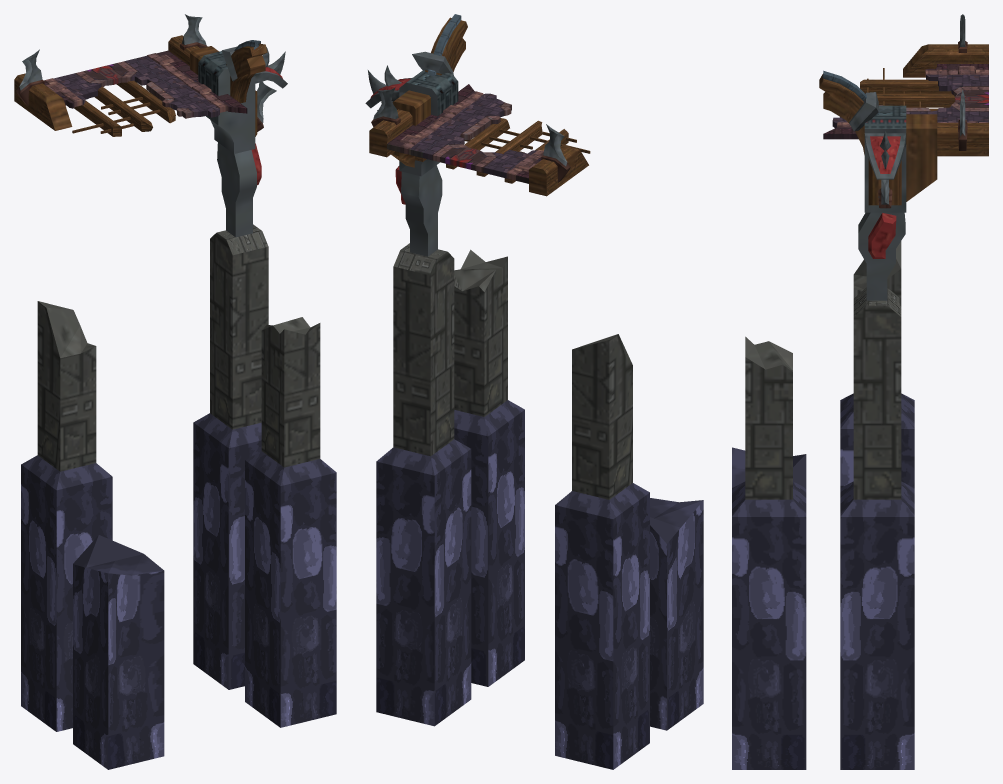
File: Bridge_Cap_16_B.FBX
3 views of the same model, side by side, from view 1: azimuth 30°, elevation 25°; view 2: azimuth 150°, elevation 25°; view 3: azimuth 270°, elevation 25° (orthographic). The views are drawn at different scales.
Visible parts, largest first — view 1: Bridge_Cap_16_B; view 2: Bridge_Cap_16_B; view 3: Bridge_Cap_16_B.
Part boxes in pixels (box(x1,y1,x2,y2)): Bridge_Cap_16_B: box(14, 14, 336, 769); Bridge_Cap_16_B: box(365, 14, 703, 769); Bridge_Cap_16_B: box(732, 14, 988, 769).
Bounding box in the file's own units: 1464 × 3623 × 1241.
Materials: 1 (1 with a texture image).
